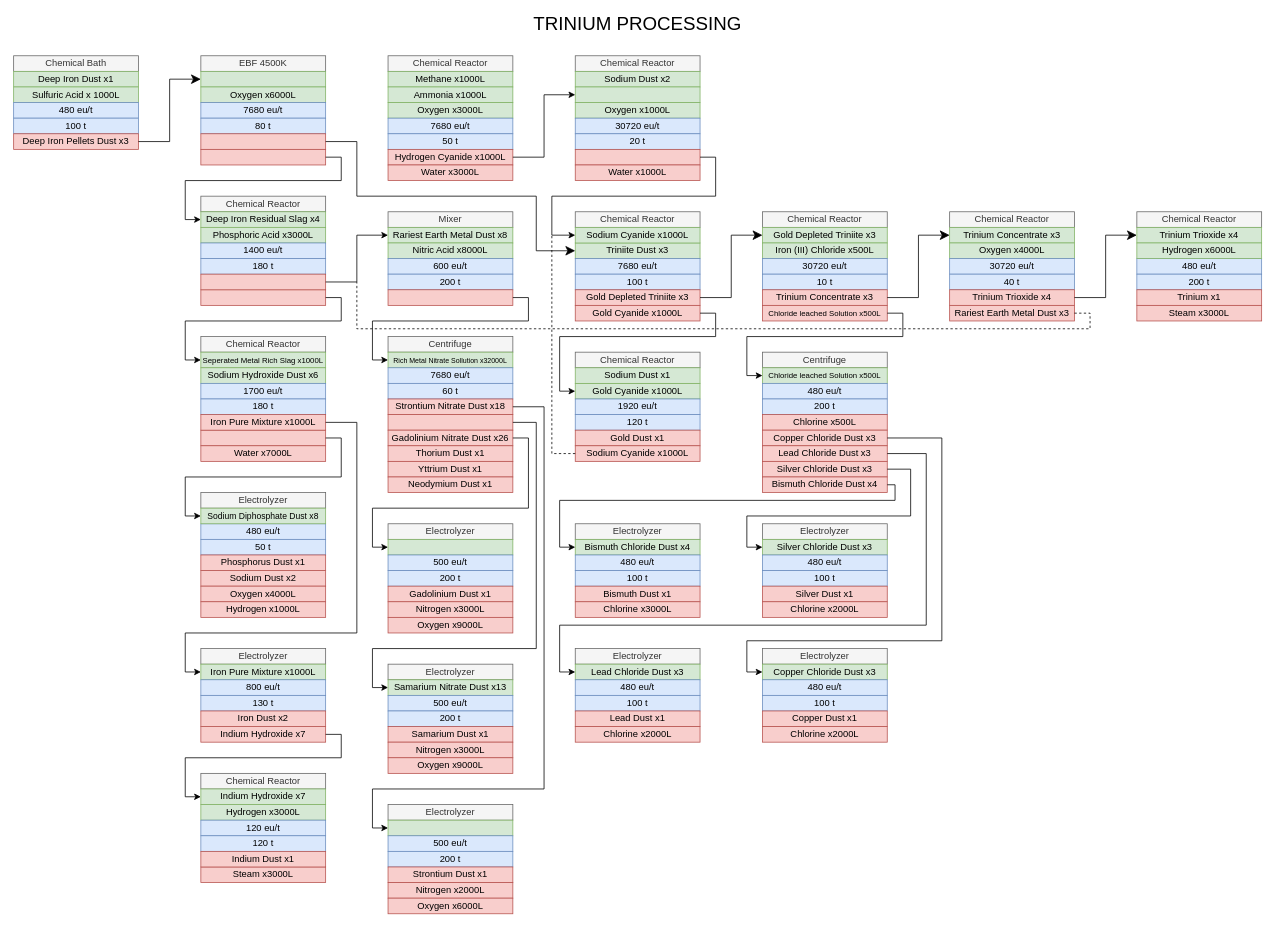
This 1275x927 diagram has some shape labels left out. Each missing label, with the centre of its shape:
Deep Iron Pellets Dust x6: point (263, 79)
Deep Iron Residual Slag x8: point (263, 157)
Gadolinium Nitrate Dust x13: point (450, 547)
Hydrogen Cyanide x2000L: point (637, 94)
Rariest Earth Metal Dust x5: point (263, 281)
Rich Metal Nitrate Sollution x16000L: point (450, 297)
Samarium Nitrate Dust x26: point (450, 422)
Seperated Metal Rich Slag x2000L: point (263, 297)
Sodium Cyanide x2000L: point (637, 157)
Sodium Diphosphate Dust x24: point (263, 437)
Strontium Nitrate Dust x9: point (450, 827)
Triniite Dust x4: point (263, 141)
